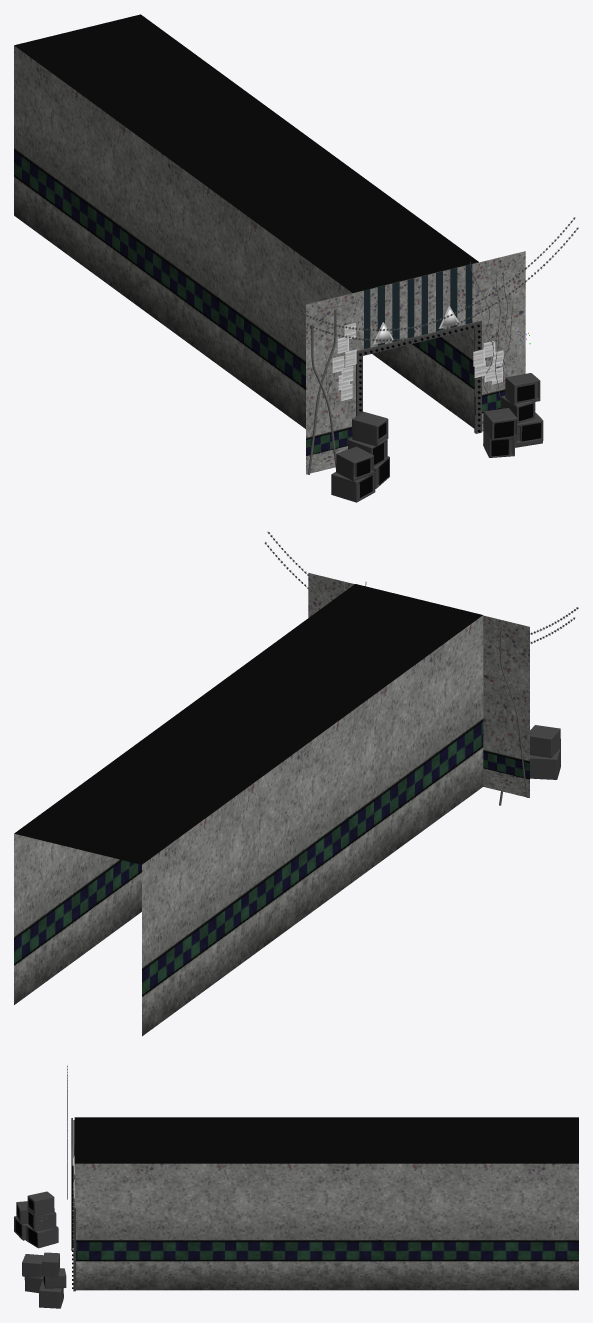
File: Corredizo.fbx
The picture shows the model from 3 angles, top to bottom: view 1: azimuth 30°, elevation 25°; view 2: azimuth 150°, elevation 25°; view 3: azimuth 270°, elevation 25°; orthographic projection. The views are drawn at different scales.
Visible parts, largest first — view 1: Cube.003, Cube, Cube.002, Plano.013, Cube.048, Cube.047, Cube.054, Cube.050, Plano.002, Cube.056, Cube.052, Circle.000 (+1 smaller); view 2: Cube.003, Cube, Cube.047, Cube.050; view 3: Cube.003, Cube.048, Cube.053, Cube.052, Cube.056, Cube.046, Cube.054, Cube.051.
Part boxes in pixels (box(x1,y1,x2,y2)): Cube.003: box(14, 14, 478, 428); Cube: box(306, 251, 525, 474); Cube.002: box(356, 321, 481, 433); Plano.013: box(332, 323, 503, 400); Cube.048: box(352, 411, 388, 446); Cube.047: box(336, 446, 373, 481); Cube.054: box(505, 373, 540, 405); Cube.050: box(331, 471, 375, 502); Plano.002: box(337, 336, 496, 390); Cube.056: box(483, 408, 517, 440); Cube.052: box(515, 412, 543, 447); Circle.000: box(270, 227, 578, 341); Cube.003: box(14, 584, 483, 1036); Cube: box(308, 573, 529, 797); Cube.047: box(530, 725, 560, 757); Cube.050: box(530, 747, 560, 779); Cube.003: box(74, 1117, 578, 1290); Cube.048: box(27, 1191, 54, 1216); Cube.053: box(25, 1224, 58, 1248); Cube.052: box(39, 1280, 63, 1308); Cube.056: box(22, 1254, 43, 1277); Cube.046: box(28, 1211, 56, 1231); Cube.054: box(42, 1252, 59, 1277); Cube.051: box(43, 1268, 66, 1288).
Size of the model in its own units: 972 by 633 by 2044.
19 materials, 3 textured.
